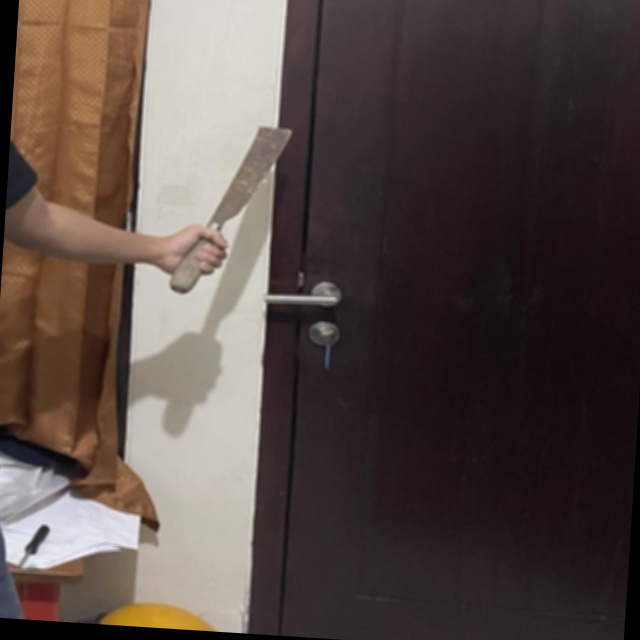Sharp-Object: (167, 120, 294, 302)
